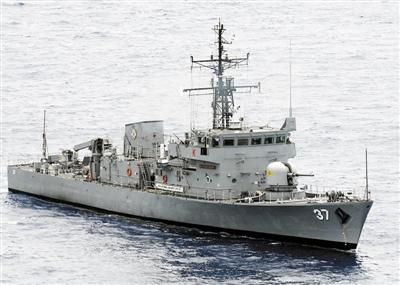warship: (6, 16, 376, 254)
